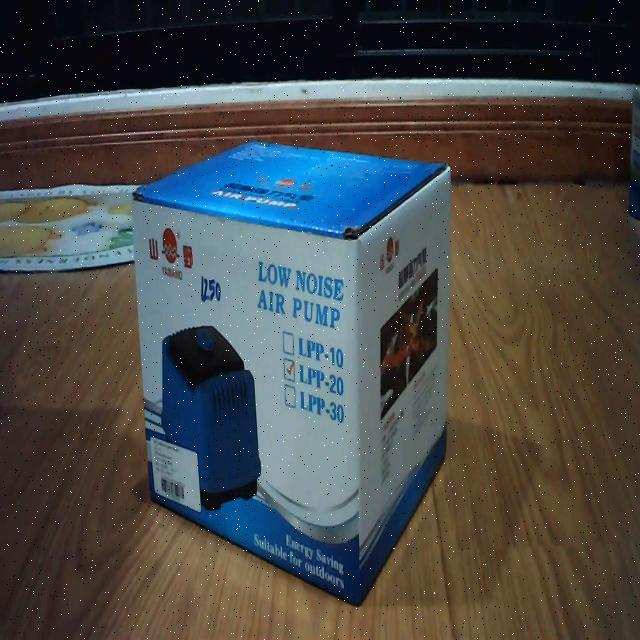YAMANO_LPP_20: (124, 111, 460, 614)
